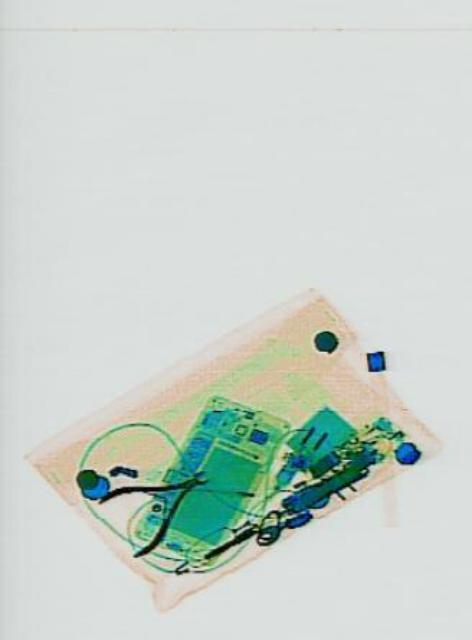Pliers: (93, 438, 218, 566)
